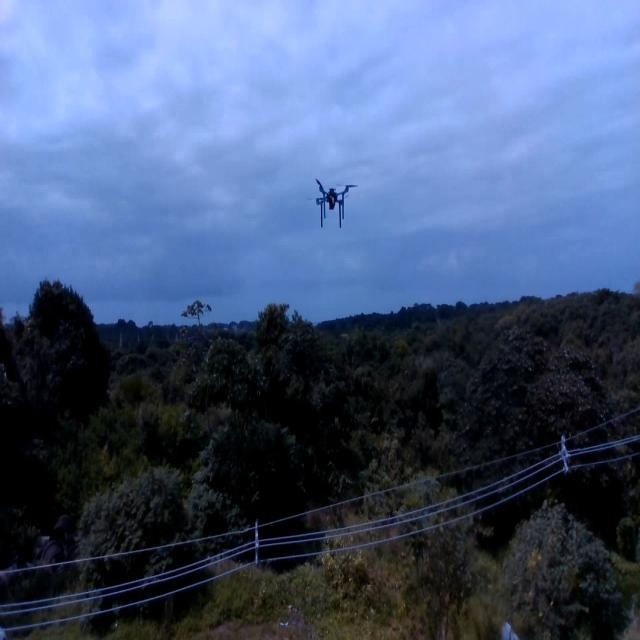-uav-: (303, 154, 361, 242)
